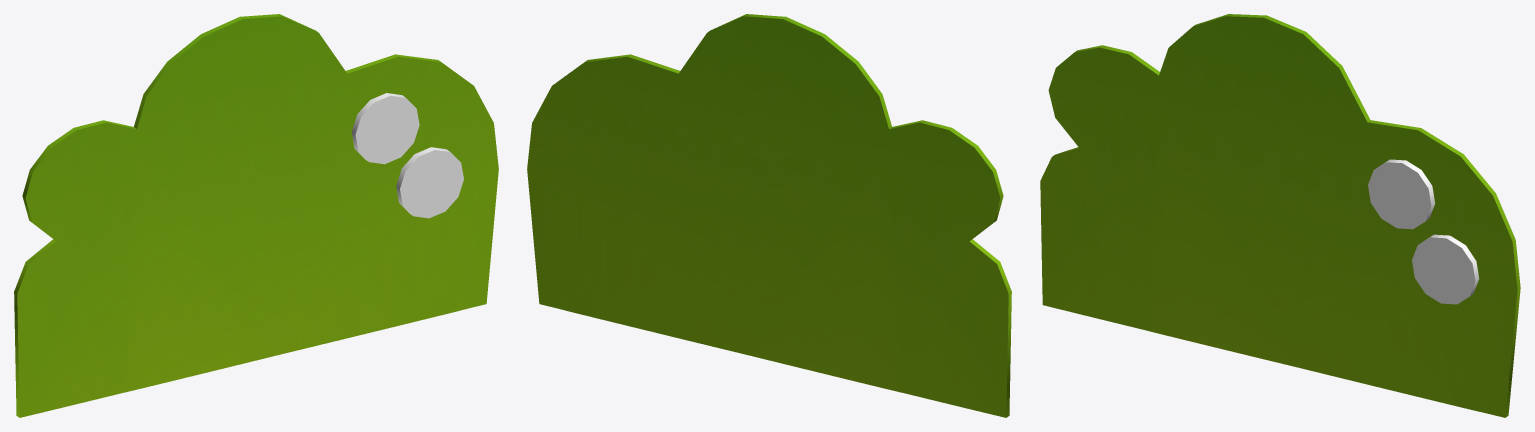
File: obj-shrub4.FBX
3 renders of one model, left to right at view 1: azimuth 30°, elevation 25°; view 2: azimuth 150°, elevation 25°; view 3: azimuth 330°, elevation 25°, orthographic.
Parts seen in each view (by area): view 1: obj-shrub4; view 2: obj-shrub4; view 3: obj-shrub4.
Part boxes in pixels (box(x1,y1,x2,y2)): obj-shrub4: box(14, 14, 498, 417); obj-shrub4: box(527, 14, 1011, 417); obj-shrub4: box(1040, 14, 1520, 417).
Bounding box in the file's own units: 3.86 × 2.64 × 0.0964.
